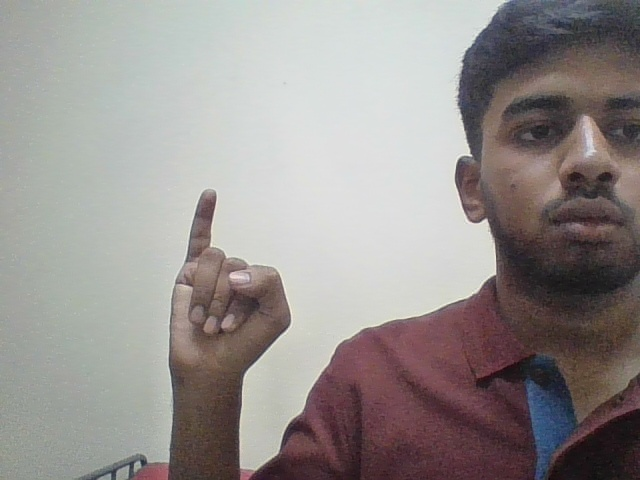I: (156, 176, 298, 402)
